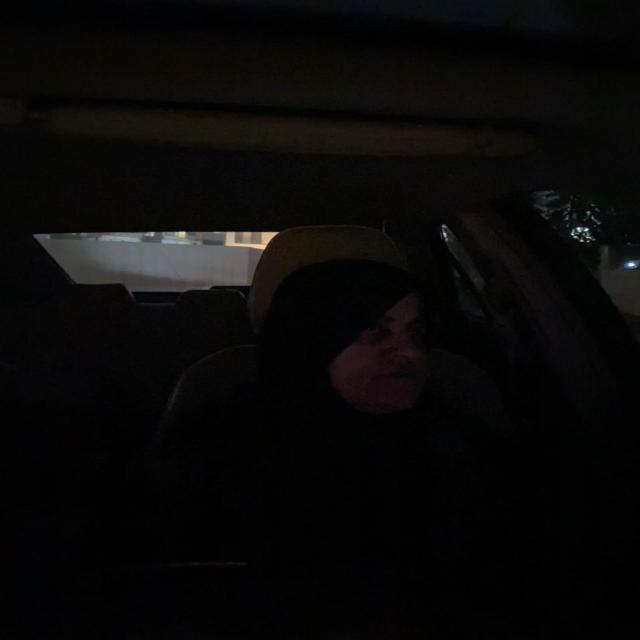person: (291, 275, 459, 415)
